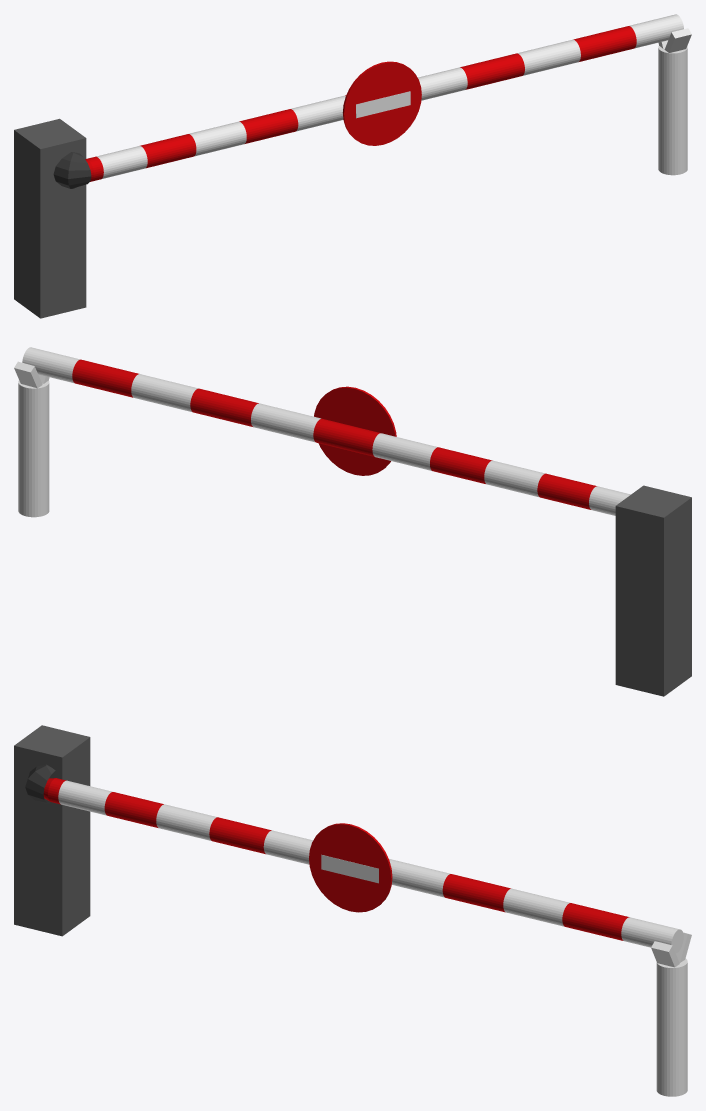
File: SafetyBarrier.glb
The picture shows the model from 3 angles, top to bottom: view 1: azimuth 30°, elevation 25°; view 2: azimuth 150°, elevation 25°; view 3: azimuth 330°, elevation 25°; orthographic projection. The views are drawn at different scales.
Parts seen in each view (by area): view 1: Sphere; view 2: Sphere; view 3: Sphere.
Boxes of the visible parts, x1,y1,x2,y2 form: Sphere: [14, 14, 691, 318]; Sphere: [14, 347, 691, 696]; Sphere: [14, 725, 691, 1096].
Size of the model in its own units: 8.31 by 2.27 by 0.9504.
